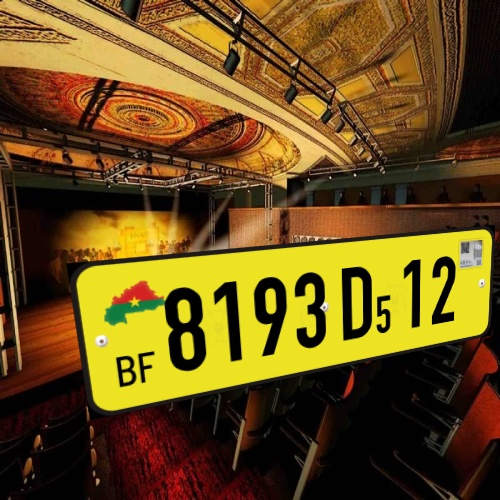plate: (55, 216, 500, 425)
